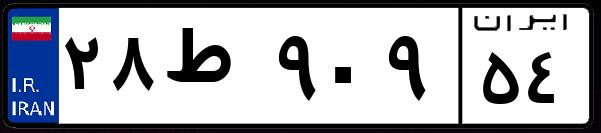0: (330, 28, 385, 110)
2: (57, 26, 110, 100)
4: (525, 38, 570, 115)
5: (475, 38, 525, 113)
8: (110, 28, 158, 98)
9: (270, 28, 330, 110), (385, 28, 445, 110)
ط: (158, 20, 270, 120)
